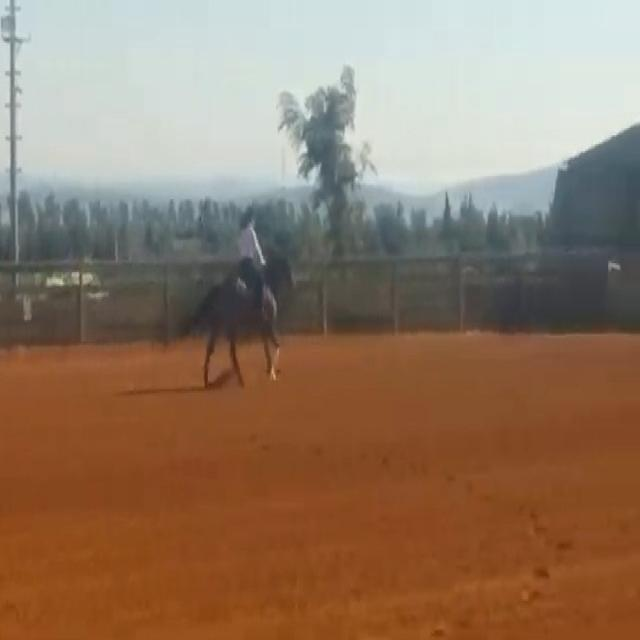horse: (179, 247, 297, 389)
